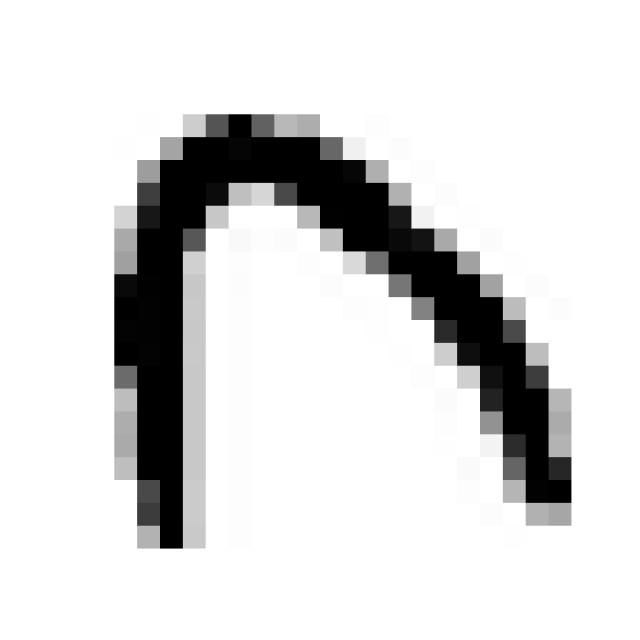8 -eight-: (82, 89, 585, 559)
